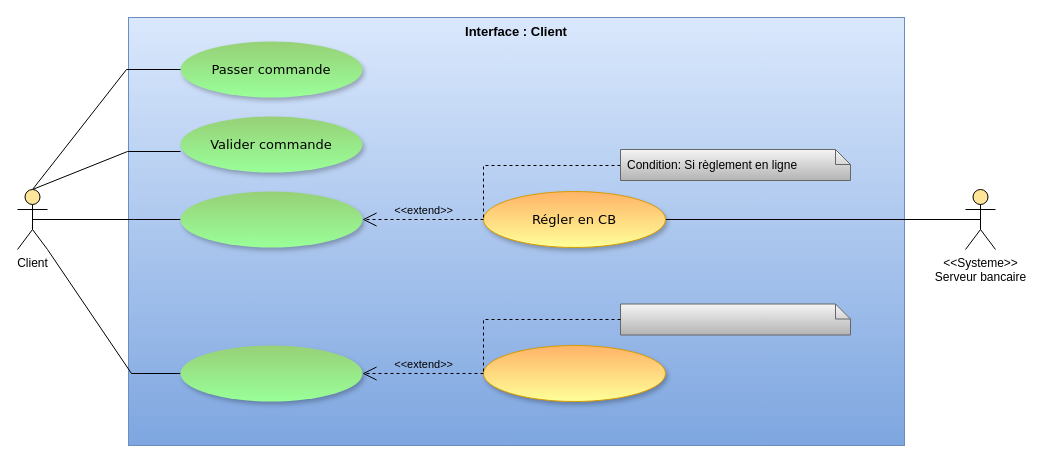
The diagram is 1043 pixels wide and 463 high, and some of its shapes have lost their labels. The centre of each missing label's shape, as x and y in pixels:
Choisir mode de livraison: [272,374]
Choisir mode de règlement: [272,220]
Condition: Si Livraison à domicile: [735,319]
Entrer adresse de livraison: [575,374]
